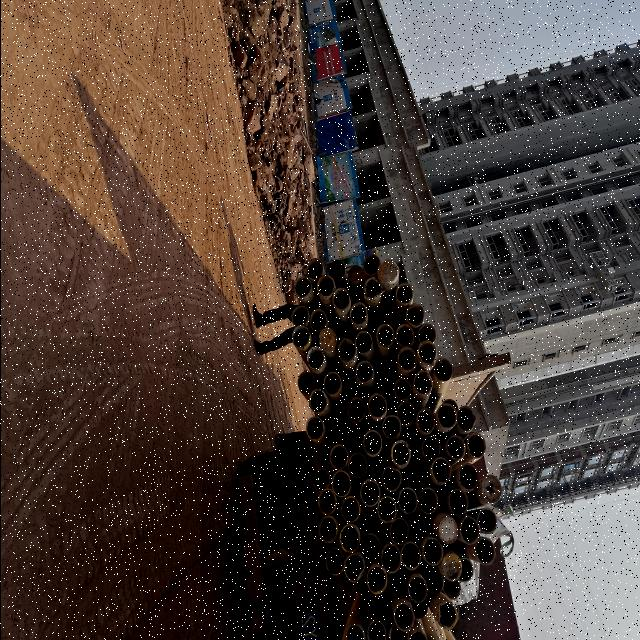pipe: (479, 474, 502, 504), (358, 478, 381, 508), (420, 537, 442, 568), (436, 600, 458, 630), (392, 602, 414, 632), (456, 463, 478, 493), (366, 563, 386, 596), (338, 524, 360, 554), (389, 440, 412, 468), (380, 543, 400, 575), (344, 552, 364, 584), (360, 428, 382, 457), (437, 515, 458, 545), (376, 259, 399, 286), (440, 554, 462, 582), (446, 488, 468, 516), (400, 542, 420, 572), (324, 547, 344, 577), (360, 532, 380, 562), (397, 486, 417, 516), (376, 494, 396, 524), (316, 514, 336, 544), (346, 451, 366, 481), (379, 466, 402, 492), (464, 432, 486, 459), (406, 576, 427, 604), (476, 508, 497, 536), (430, 457, 451, 485), (418, 487, 438, 516), (436, 402, 458, 428), (474, 538, 494, 566), (459, 516, 479, 544), (388, 518, 408, 546), (456, 404, 476, 432), (415, 407, 435, 435), (340, 496, 360, 524), (330, 470, 350, 498), (416, 340, 436, 368), (397, 346, 417, 374), (424, 567, 443, 596), (381, 414, 402, 440), (366, 392, 387, 418), (361, 276, 382, 302), (317, 489, 337, 515), (328, 444, 348, 470), (304, 416, 324, 442), (307, 388, 327, 414), (322, 371, 342, 397), (317, 327, 337, 353), (387, 570, 405, 598), (444, 436, 465, 460), (404, 303, 425, 327), (347, 396, 365, 424), (420, 435, 440, 460), (412, 370, 432, 395), (396, 401, 416, 426), (336, 337, 356, 362), (330, 287, 350, 312), (407, 460, 427, 484), (433, 358, 453, 382), (394, 324, 414, 348), (353, 360, 373, 384), (290, 324, 310, 348), (360, 252, 380, 276), (376, 323, 394, 349), (309, 307, 327, 333), (348, 300, 366, 326), (306, 346, 324, 371), (365, 620, 387, 640), (392, 378, 412, 400), (456, 558, 474, 582), (312, 468, 330, 492), (296, 370, 314, 394), (354, 330, 372, 354), (327, 257, 345, 281), (316, 274, 334, 298), (304, 256, 322, 280), (294, 275, 312, 299), (327, 425, 346, 447), (395, 282, 414, 304), (374, 383, 392, 406), (417, 323, 437, 343), (346, 432, 364, 454), (290, 304, 308, 326), (346, 264, 364, 286), (412, 598, 428, 622), (356, 576, 372, 600), (442, 578, 459, 600), (360, 508, 377, 530), (332, 403, 348, 426), (384, 310, 402, 330), (344, 623, 365, 640), (315, 444, 331, 466), (378, 361, 394, 383), (388, 624, 408, 640), (410, 516, 426, 536), (368, 316, 383, 336), (408, 631, 428, 640)
